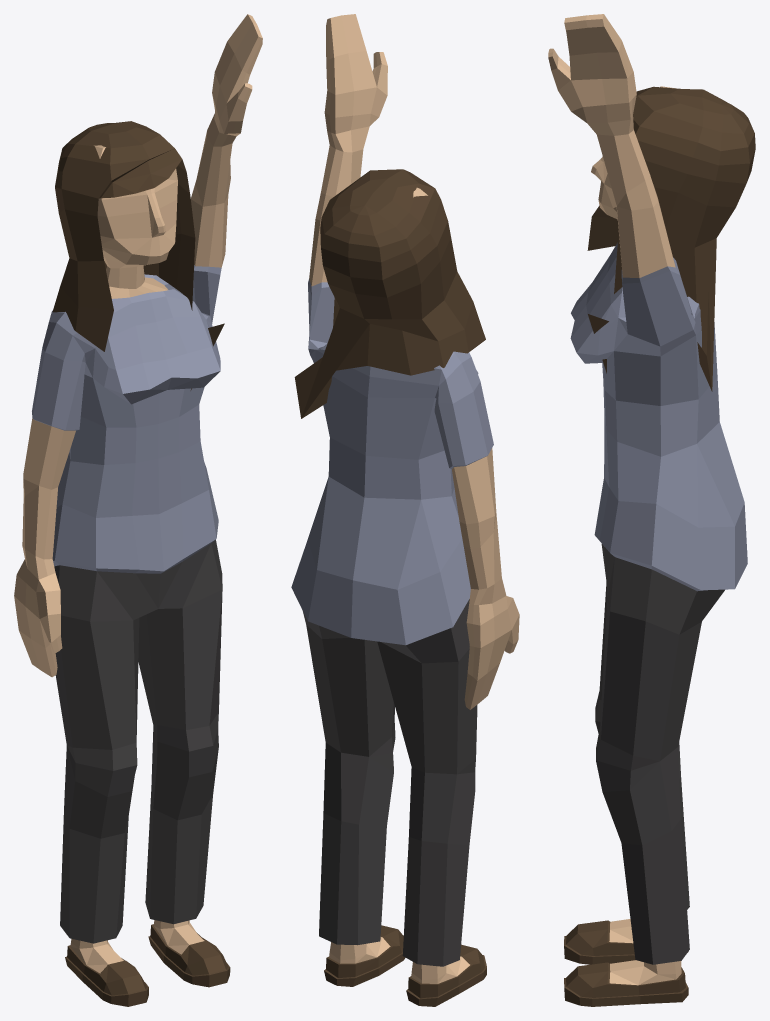
File: Female_Crowd_LeftArmUp.glb
The picture shows the model from 3 angles, left to right: view 1: azimuth 30°, elevation 25°; view 2: azimuth 150°, elevation 25°; view 3: azimuth 270°, elevation 25°; orthographic projection. The views are drawn at different scales.
Parts seen in each view (by area): view 1: Female_Crowd_LeftArmUp; view 2: Female_Crowd_LeftArmUp; view 3: Female_Crowd_LeftArmUp.
Boxes of the visible parts, left/top/right/bottom form: Female_Crowd_LeftArmUp: left=14, top=14, right=262, bottom=1006; Female_Crowd_LeftArmUp: left=291, top=14, right=519, bottom=1006; Female_Crowd_LeftArmUp: left=548, top=14, right=755, bottom=1006.
Bounding box in the file's own units: 0.421 × 1.9 × 0.3541.
